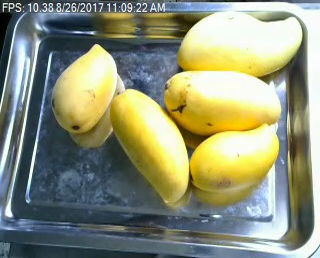Mango: (103, 88, 191, 202), (176, 6, 303, 76), (163, 66, 280, 136), (184, 119, 284, 193), (49, 41, 121, 134)
